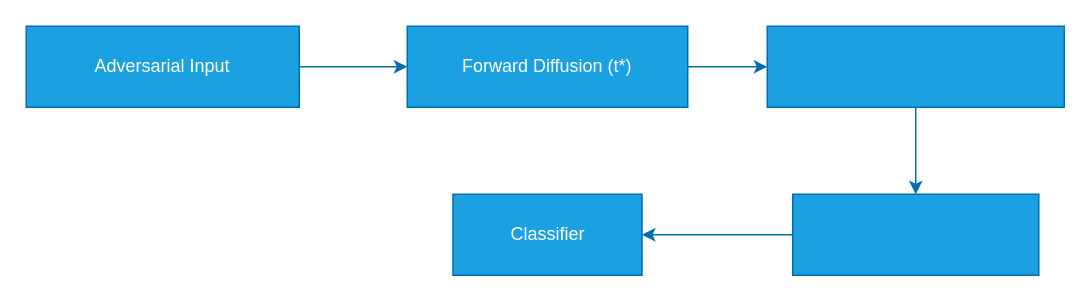
The diagram is 1091 pixels wide and 302 high, and some of its shapes have lost their labels. Each missing label, with the centre of its shape:
"Purified Image" belongs at point 915,234.
"Reverse ODE Solver" belongs at point 915,66.
